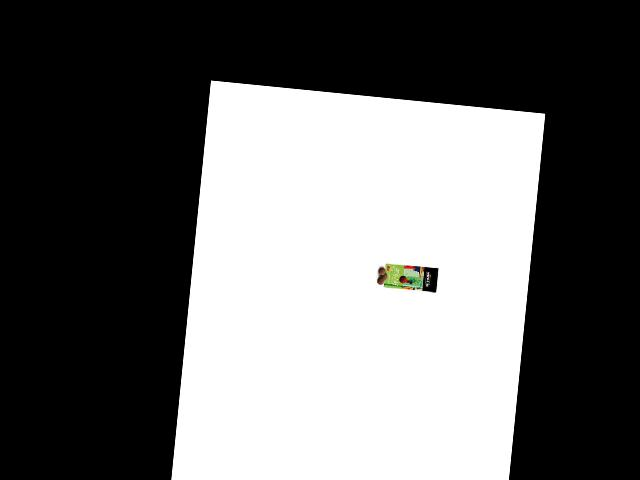chocolate: (381, 259, 441, 298)
